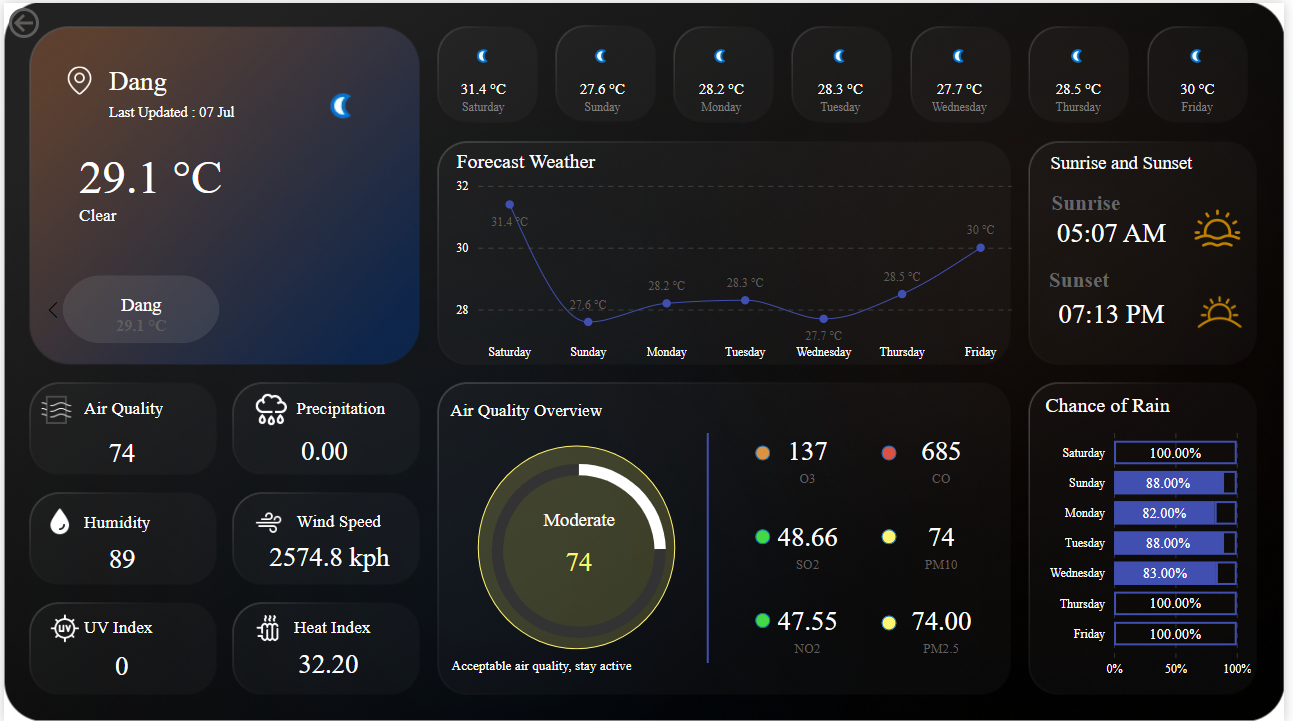

What the dashboard file says about the page in this screenshot:
{"tool":"powerbi","page":{"name":"Page 1","canvas":[1280,720],"ordinal":0},"visuals":[{"type":"shape","box":[473.8,442.5,197.5,203.8],"z":0},{"type":"advancedSlicerVisual","fields":{"Values":["Locations.location.name"]},"box":[33.3,267,373.3,75.6],"z":1000},{"type":"shape","box":[75.6,147.8,211.1,48.9],"z":2000},{"type":"shape","box":[75.6,196.7,297.8,32.2],"z":3000},{"type":"shape","box":[105,58.8,138.8,38.8],"z":4000},{"type":"image","box":[48.8,58.8,53.8,37.5],"z":5000},{"type":"shape","box":[105,97.5,137.5,22.5],"z":6000},{"type":"cardVisual","fields":{"Data":["Min(Current.current.condition.icon)"]},"box":[286.7,50,110,93.3],"z":7000},{"type":"image","box":[35,500,41,37],"z":8000},{"type":"shape","box":[80,507,105,25],"z":9000},{"type":"card","fields":{"Values":["Sum(Current.current.humidity)"]},"box":[74,532,89,47],"z":10000},{"type":"image","box":[243.7,500.7,42.2,37.4],"z":11000},{"type":"shape","box":[292,506.7,105,25.3],"z":12000},{"type":"card","fields":{"Values":["_Measures.Wind_Speed"]},"box":[233,527,186,52],"z":13000},{"type":"image","box":[29,383,47,48],"z":14000},{"type":"shape","box":[80,394,105,25],"z":15000},{"type":"card","fields":{"Values":["Sum(Current.current.air_quality.pm10)"]},"box":[80,431,76,37],"z":16000},{"type":"image","box":[243,383,50,48],"z":17000},{"type":"shape","box":[293,394,105,25],"z":18000},{"type":"card","fields":{"Values":["Sum(Current.current.precip_mm)"]},"box":[287,431,66,34],"z":19000},{"type":"image","box":[41,605,39,40],"z":20000},{"type":"shape","box":[80,612,105,25],"z":21000},{"type":"card","fields":{"Values":["Sum(Current.current.uv)"]},"box":[94,645,48,36],"z":22000},{"type":"actionButton","box":[0,0,100,40],"z":23000},{"type":"image","box":[242,605,44,40],"z":24000},{"type":"shape","box":[290,612,105,25],"z":25000},{"type":"card","fields":{"Values":["Sum(Current.current.heatindex_c)"]},"box":[287,640,74,41],"z":26000},{"type":"advancedSlicerVisual","fields":{"Values":["Forecast_Day.Forecast_Day"]},"box":[418.9,25.6,841.1,104.4],"z":27000},{"type":"lineChart","title":"Forecast Weather","fields":{"Category":["Forecast_Day.Forecast_Day"],"Y":["Sum(Forecast_Day.forecast.forecastday.day.avgtemp_c)"]},"box":[447.1,147.1,565.7,217.1],"z":28000},{"type":"shape","box":[1046.2,147.5,151.2,25],"z":29000},{"type":"card","fields":{"Values":["Min(Forecast_Day.Sunrise_Date)"]},"box":[1045,213.8,125,31.2],"z":30000},{"type":"card","fields":{"Values":["Min(Forecast_Day.Sunset_Date)"]},"box":[1045,296.2,125,30],"z":31000},{"type":"shape","box":[1047.5,187.5,125,25],"z":32000},{"type":"shape","box":[1044.5,265.5,125,25],"z":33000},{"type":"image","box":[1184.5,197.3,56.4,55.5],"z":34000},{"type":"image","box":[1180,274.5,70.9,68.2],"z":35000},{"type":"hundredPercentStackedBarChart","title":"Chance of Rain","fields":{"Y":["Sum(Forecast_Day.forecast.forecastday.day.daily_chance_of_rain)","_Measures.Left_Value_Rain"],"Category":["Forecast_Day.Forecast_Day"]},"box":[1035.7,391.4,215.7,290],"z":36000},{"type":"card","fields":{"Values":["Sum(Current.current.air_quality.co)"]},"box":[892.5,420,90,70],"z":37000},{"type":"shape","box":[446.7,395.6,166.7,24.4],"z":38000},{"type":"card","fields":{"Values":["Sum(Current.current.air_quality.pm10)"]},"box":[892.5,506.2,90,70],"z":39000},{"type":"card","fields":{"Values":["Sum(Current.current.air_quality.pm2_5)"]},"box":[892.5,590,90,70],"z":40000},{"type":"card","fields":{"Values":["Sum(Current.current.air_quality.o3)"]},"box":[758.8,420,90,70],"z":41000},{"type":"card","fields":{"Values":["Sum(Current.current.air_quality.so2)"]},"box":[758.8,506.2,90,70],"z":42000},{"type":"card","fields":{"Values":["Sum(Current.current.air_quality.no2)"]},"box":[758.8,590,90,70],"z":43000},{"type":"shape","box":[877.5,526.2,15,15],"z":44000},{"type":"shape","box":[877.5,442.5,15,15],"z":45000},{"type":"shape","box":[877.5,612.5,15,15],"z":46000},{"type":"shape","box":[751.2,442.5,15,15],"z":47000},{"type":"shape","box":[751.2,526.2,15,15],"z":48000},{"type":"shape","box":[751.2,610,15,15],"z":49000},{"type":"shape","box":[628.8,430,150,230],"z":50000},{"type":"card","fields":{"Values":["Sum(Current.current.air_quality.pm10)"]},"box":[518.8,506.2,112.5,83.8],"z":51000},{"type":"donutChart","fields":{"Y":["Sum(Current.current.air_quality.pm10)","_Measures.Left_value_PM10"]},"box":[461.2,425,227.5,246.2],"z":52000},{"type":"shape","box":[447.8,651.1,255.6,24.4],"z":53000}]}

Visuals, with their boxes in screenshot pixels (x1, y1, x2, y2), scaled from the page's 1280x720 canvas onto the 1293x721 screenshot:
shape: box(479, 443, 678, 647)
advancedSlicerVisual - Locations.location.name: box(34, 267, 411, 343)
shape: box(76, 148, 290, 197)
shape: box(76, 197, 377, 229)
shape: box(106, 59, 246, 98)
image: box(49, 59, 104, 96)
shape: box(106, 98, 245, 120)
cardVisual - Min(Current.current.condition.icon): box(290, 50, 401, 143)
image: box(35, 501, 77, 538)
shape: box(81, 508, 187, 533)
card - Sum(Current.current.humidity): box(75, 533, 165, 580)
image: box(246, 501, 289, 539)
shape: box(295, 507, 401, 533)
card - _Measures.Wind_Speed: box(235, 528, 423, 580)
image: box(29, 384, 77, 432)
shape: box(81, 395, 187, 420)
card - Sum(Current.current.air_quality.pm10): box(81, 432, 158, 469)
image: box(245, 384, 296, 432)
shape: box(296, 395, 402, 420)
card - Sum(Current.current.precip_mm): box(290, 432, 357, 466)
image: box(41, 606, 81, 646)
shape: box(81, 613, 187, 638)
card - Sum(Current.current.uv): box(95, 646, 143, 682)
actionButton: box(0, 0, 101, 40)
image: box(244, 606, 289, 646)
shape: box(293, 613, 399, 638)
card - Sum(Current.current.heatindex_c): box(290, 641, 365, 682)
advancedSlicerVisual - Forecast_Day.Forecast_Day: box(423, 26, 1273, 130)
"Forecast Weather" lineChart: box(452, 147, 1023, 365)
shape: box(1057, 148, 1210, 173)
card - Min(Forecast_Day.Sunrise_Date): box(1056, 214, 1182, 245)
card - Min(Forecast_Day.Sunset_Date): box(1056, 297, 1182, 327)
shape: box(1058, 188, 1184, 213)
shape: box(1055, 266, 1181, 291)
image: box(1197, 198, 1254, 253)
image: box(1192, 275, 1264, 343)
"Chance of Rain" hundredPercentStackedBarChart: box(1046, 392, 1264, 682)
card - Sum(Current.current.air_quality.co): box(902, 421, 992, 491)
shape: box(451, 396, 620, 421)
card - Sum(Current.current.air_quality.pm10): box(902, 507, 992, 577)
card - Sum(Current.current.air_quality.pm2_5): box(902, 591, 992, 661)
card - Sum(Current.current.air_quality.o3): box(767, 421, 857, 491)
card - Sum(Current.current.air_quality.so2): box(767, 507, 857, 577)
card - Sum(Current.current.air_quality.no2): box(767, 591, 857, 661)
shape: box(886, 527, 902, 542)
shape: box(886, 443, 902, 458)
shape: box(886, 613, 902, 628)
shape: box(759, 443, 774, 458)
shape: box(759, 527, 774, 542)
shape: box(759, 611, 774, 626)
shape: box(635, 431, 787, 661)
card - Sum(Current.current.air_quality.pm10): box(524, 507, 638, 591)
donutChart - Sum(Current.current.air_quality.pm10) x _Measures.Left_value_PM10: box(466, 426, 696, 672)
shape: box(452, 652, 711, 676)
